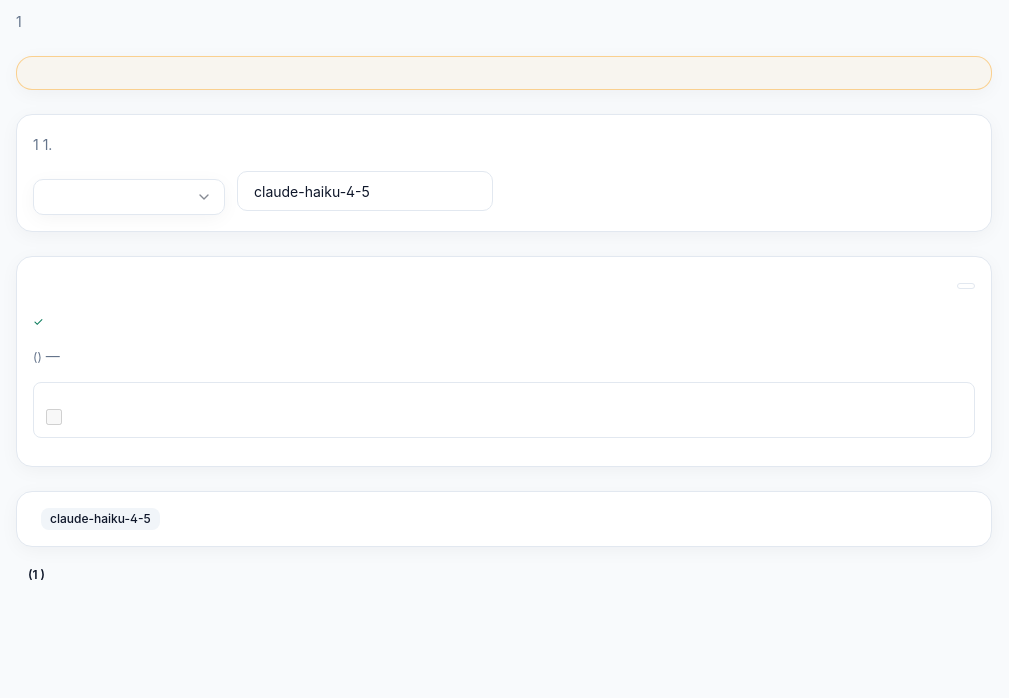
PainelDeProvedores — o Jev no painel › com o Jev desligado, o cartão do ponto não fala dele
The image size is (1009, 698).
Expected: the element with test id "cartao-do-jev" is shown, left=16, top=256, right=992, bottom=467
Click the button with test id "avancado-entender" at (37, 575), box left=16, top=559, right=57, bottom=591
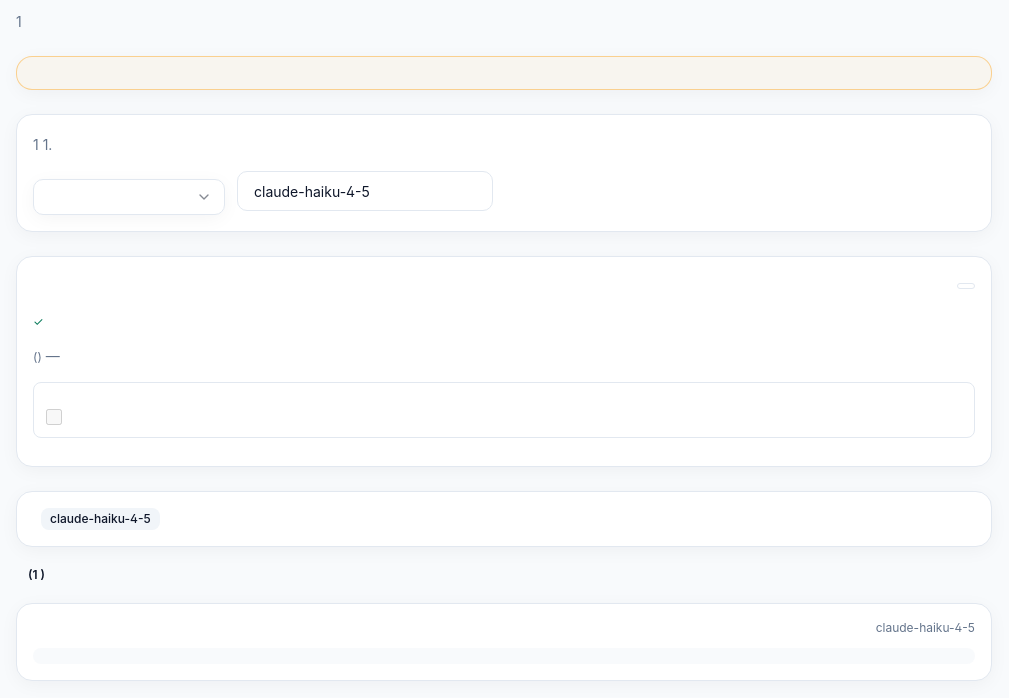
Result: the element with test id "ponto-sentiment_classify" is shown at left=16, top=603, right=992, bottom=681
